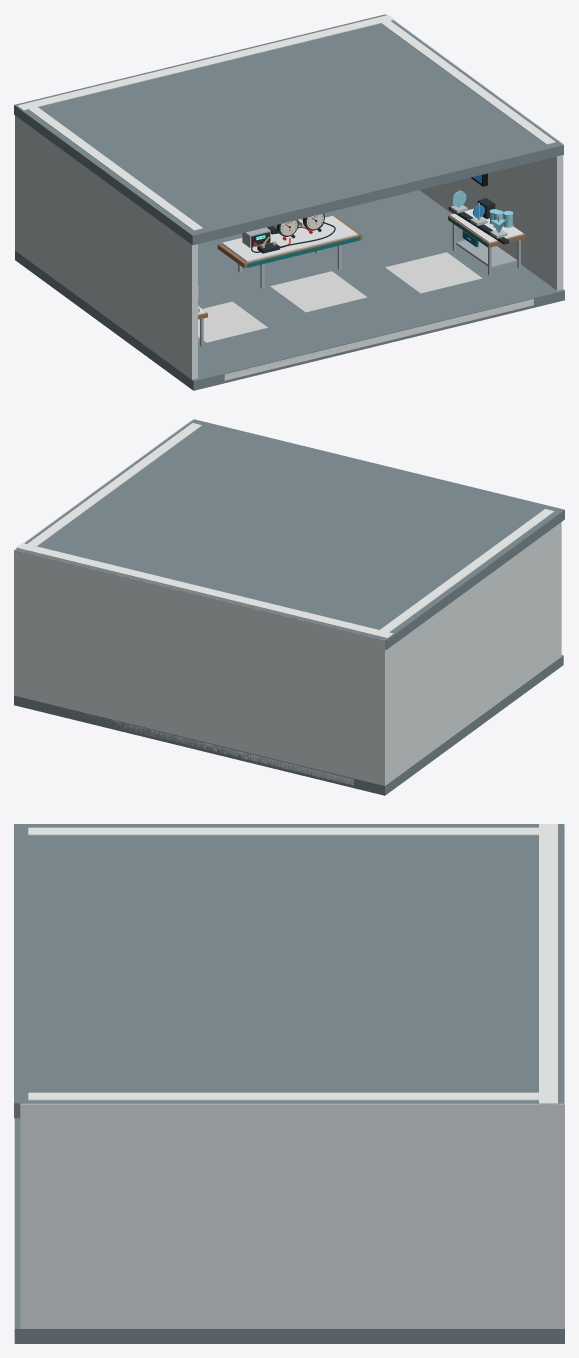
Rendered from labroom.glb.
3 renders of one model, top to bottom at view 1: azimuth 30°, elevation 25°; view 2: azimuth 150°, elevation 25°; view 3: azimuth 270°, elevation 25°, orthographic. The views are drawn at different scales.
Visible parts, largest first — view 1: Laboratory Floor.001, Laboratory Floor, Left Wall, Right Wall, Ceiling Beam Back, Plane.002, Plane, Lab Floor, White Laboratory Work Surface, Ceiling Beam Right, Ceiling Beam Left, Plane.001 (+4 smaller); view 2: Laboratory Floor.001, Back Wall, Left Wall, Laboratory Floor, Ceiling Beam Back, Ceiling Beam Left, Ceiling Beam Right, Lab Floor; view 3: Laboratory Floor.001, Right Wall, Laboratory Floor, Ceiling Beam Back, Ceiling Beam Left, Ceiling Beam Right, Back Wall.
Part boxes in pixels (<box>): Laboratory Floor.001: <box>14,14,563,245</box>; Laboratory Floor: <box>15,190,564,390</box>; Left Wall: <box>16,117,197,379</box>; Right Wall: <box>394,20,563,290</box>; Ceiling Beam Back: <box>17,15,394,110</box>; Plane.002: <box>385,252,482,293</box>; Plane: <box>270,271,366,312</box>; Lab Floor: <box>224,299,533,380</box>; White Laboratory Work Surface: <box>222,215,357,262</box>; Ceiling Beam Right: <box>377,18,555,144</box>; Ceiling Beam Left: <box>28,106,202,230</box>; Plane.001: <box>198,301,267,342</box>; Laboratory Floor.001: <box>15,419,564,649</box>; Back Wall: <box>14,548,388,785</box>; Left Wall: <box>387,522,561,784</box>; Laboratory Floor: <box>14,655,563,795</box>; Ceiling Beam Back: <box>16,543,393,638</box>; Ceiling Beam Left: <box>376,509,554,635</box>; Ceiling Beam Right: <box>23,423,201,548</box>; Lab Floor: <box>63,709,353,785</box>; Laboratory Floor.001: <box>14,824,564,1118</box>; Right Wall: <box>20,1103,559,1328</box>; Laboratory Floor: <box>14,1118,564,1343</box>; Ceiling Beam Back: <box>539,824,557,1109</box>; Ceiling Beam Left: <box>28,827,551,835</box>; Ceiling Beam Right: <box>28,1092,551,1100</box>; Back Wall: <box>554,825,564,1328</box>.
Bounding box in the file's own units: 12.04 × 4.82 × 10.01.
